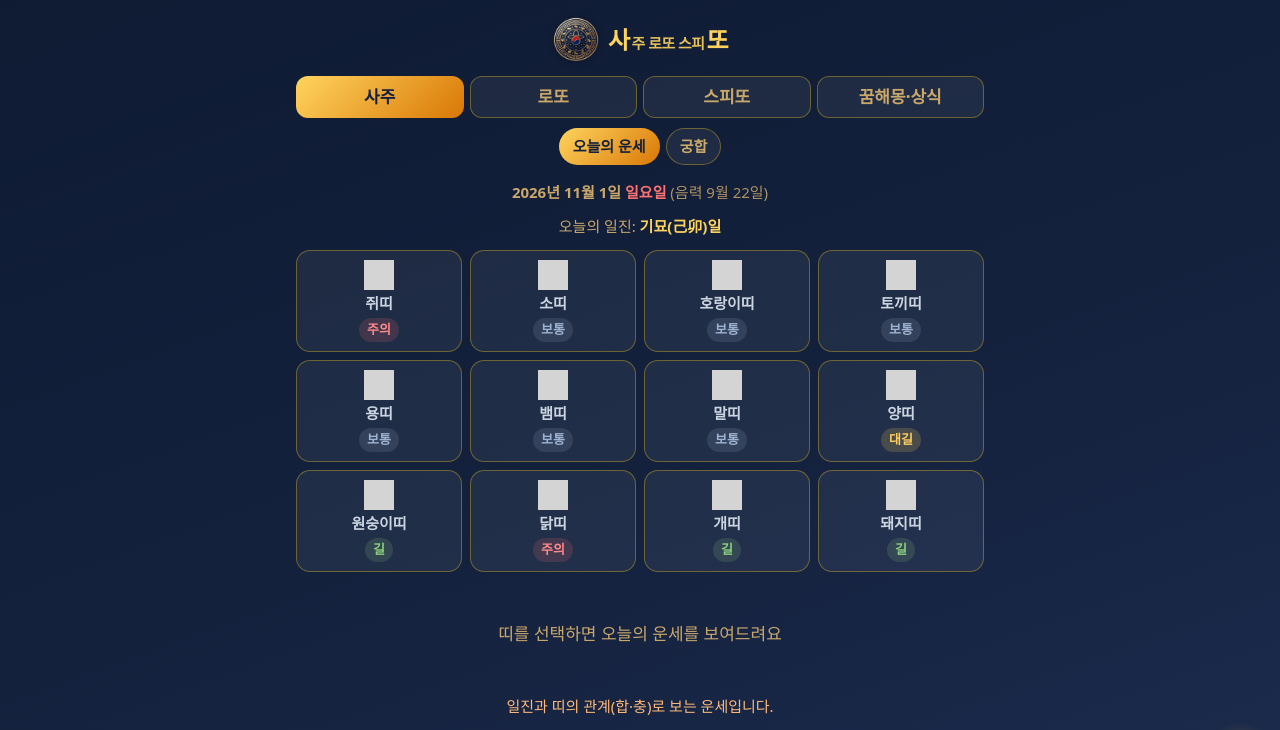
Test case: 꿈해몽·상식 메뉴 클릭 시 꿈해몽 글 목록 표시
This screenshot has width=1280, height=730.
Click the link "꿈해몽·상식": (900, 97) [816, 76, 984, 118]
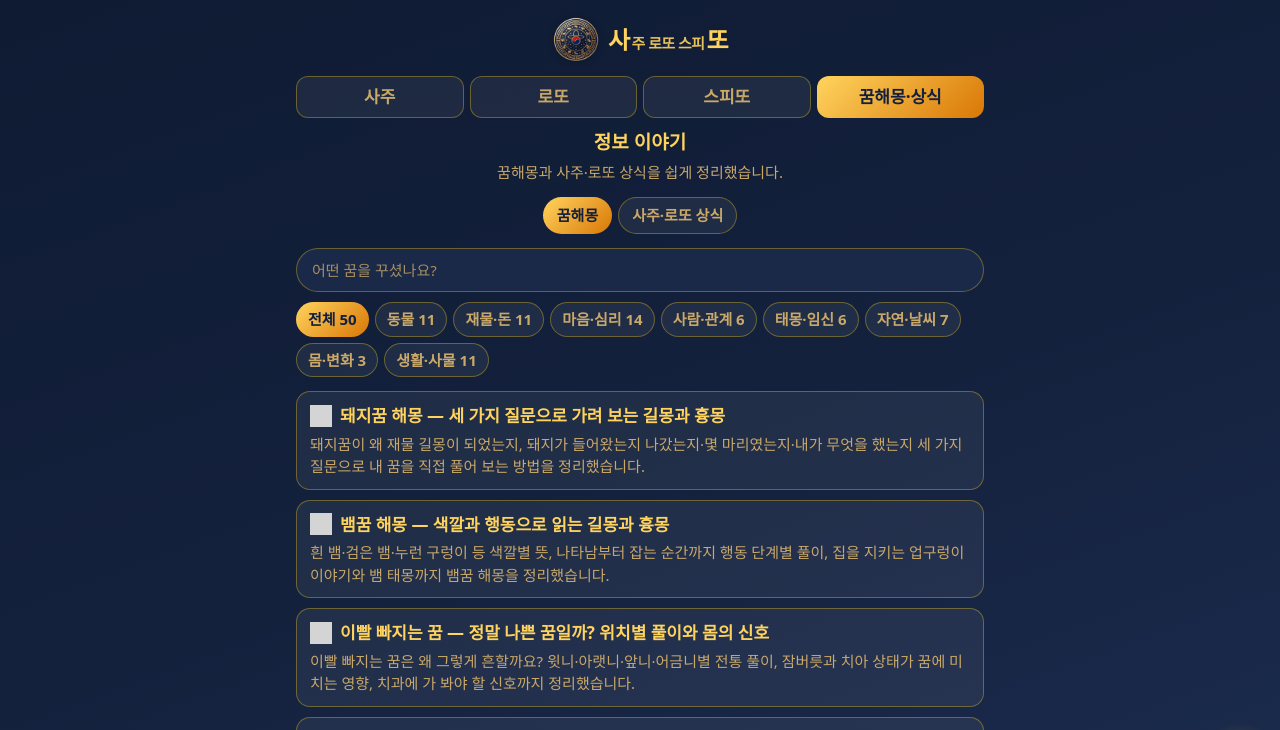
Expected: the heading "정보 이야기" is shown, [594, 129, 686, 155]
